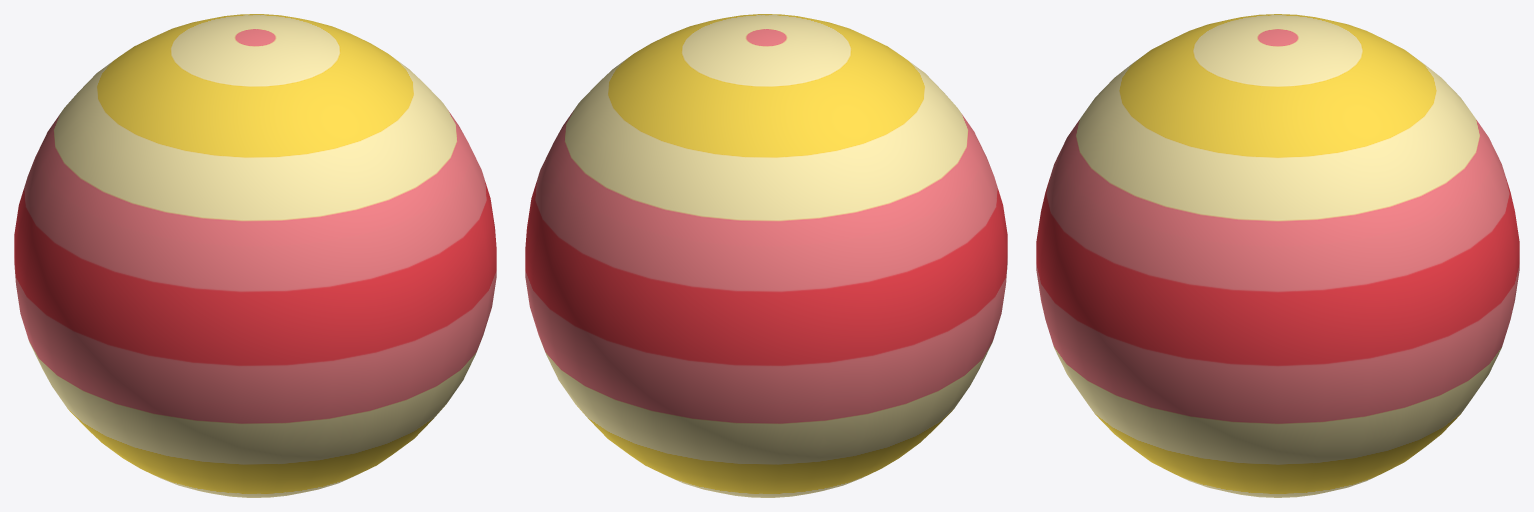
File: M_shere_03.fbx
3 renders of one model, left to right at view 1: azimuth 30°, elevation 25°; view 2: azimuth 150°, elevation 25°; view 3: azimuth 270°, elevation 25°, orthographic.
Parts seen in each view (by area): view 1: Sphere.002; view 2: Sphere.002; view 3: Sphere.002.
Part boxes in pixels (<box>): Sphere.002: <box>14,14,496,497</box>; Sphere.002: <box>525,14,1007,497</box>; Sphere.002: <box>1036,14,1519,497</box>.
Bounding box in the file's own units: 611 × 612 × 611.
